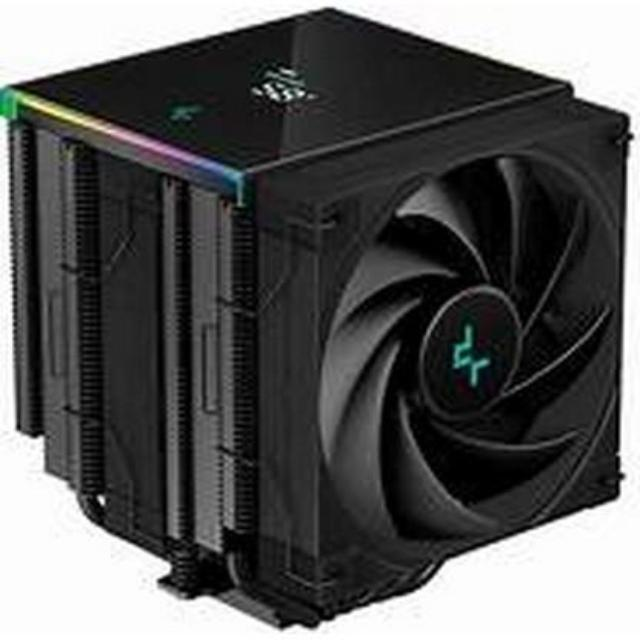CPU_Fan: (3, 8, 626, 628)
